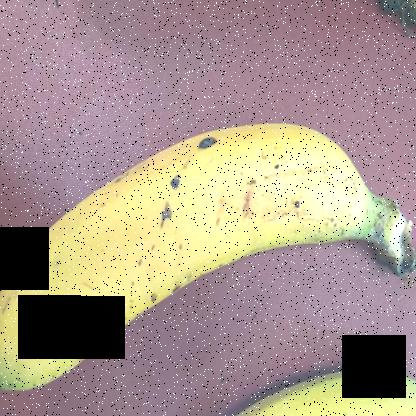ripe: (1, 104, 389, 400)
